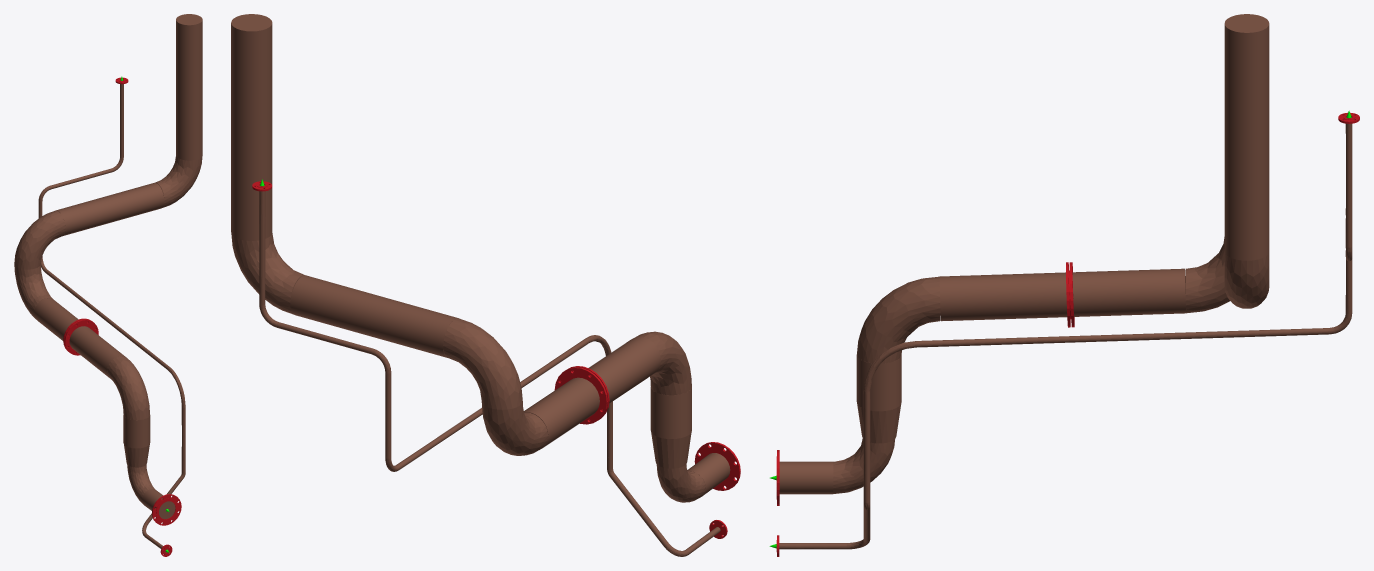
The model's file is Phase44d.fbx.
The picture shows the model from 3 angles, left to right: view 1: azimuth 30°, elevation 25°; view 2: azimuth 150°, elevation 25°; view 3: azimuth 270°, elevation 25°; orthographic projection. The views are drawn at different scales.
Parts seen in each view (by area): view 1: Типы трубопроводов:CPS_Бесшовная труба из нс:1278402 (×2), Сталь нержавеющая (×2), 48.53.02.00.014 Трубопровод:48.53.02.00.014 Трубопровод:1453, СтальСварка_Отвод:Исполнение 2 — 108:1391713, Типы трубопроводов:CPS_Бесшовная труба из нс:1354505, Отвод:Исполнение 2 — 108:1287297, Типы трубопроводов:CPS_Бесшовная труба из нс:1278318, Типы трубопроводов:CPS_Бесшовная труба из нс:1353680, СтальСварка_Отвод:Исполнение 2 — 108:1391896, Фланец:Фланец:1452189, Типы трубопроводов:CPS_Бесшовная труба из нс:1354553, Переход исп. 1:Переход исп. 1:1374321 (+2 smaller); view 2: Типы трубопроводов:CPS_Бесшовная труба из нс:1278402 (×2), Сталь нержавеющая (×2), 48.53.02.00.014 Трубопровод:48.53.02.00.014 Трубопровод:1453, Отвод:Исполнение 2 — 108:1287297, Типы трубопроводов:CPS_Бесшовная труба из нс:1278318, Типы трубопроводов:CPS_Бесшовная труба из нс:1354505, СтальСварка_Отвод:Исполнение 2 — 108:1391713, Типы трубопроводов:CPS_Бесшовная труба из нс:1353680, СтальСварка_Отвод:Исполнение 2 — 108:1391896, 48.53.02.00.001 Колено:48.53.02.00.001 Колено:1449438, Переход исп. 1:Переход исп. 1:1374321, Типы трубопроводов:CPS_Бесшовная труба из нс:1354553 (+2 smaller); view 3: Типы трубопроводов:CPS_Бесшовная труба из нс:1278402, 48.53.02.00.014 Трубопровод:48.53.02.00.014 Трубопровод:1453, Типы трубопроводов:CPS_Бесшовная труба из нс:1354505, Типы трубопроводов:CPS_Бесшовная труба из нс:1278318, СтальСварка_Отвод:Исполнение 2 — 108:1391713, Отвод:Исполнение 2 — 108:1287297, Сталь нержавеющая, Типы трубопроводов:CPS_Бесшовная труба из нс:1353680, Типы трубопроводов:CPS_Бесшовная труба из нс:1354553, СтальСварка_Отвод:Исполнение 2 — 108:1391896, Переход исп. 1:Переход исп. 1:1374321, 48.53.02.00.001 Колено:48.53.02.00.001 Колено:1449438.
Part boxes in pixels (box(x1,y1,x2,y2)): Типы трубопроводов:CPS_Бесшовная труба из нс:1278402 (×2): box(56, 14, 202, 236); Сталь нержавеющая (×2): box(14, 210, 65, 318); 48.53.02.00.014 Трубопровод:48.53.02.00.014 Трубопровод:1453: box(38, 84, 185, 465); СтальСварка_Отвод:Исполнение 2 — 108:1391713: box(107, 356, 149, 419); Типы трубопроводов:CPS_Бесшовная труба из нс:1354505: box(69, 326, 126, 377); Отвод:Исполнение 2 — 108:1287297: box(155, 156, 202, 207); Типы трубопроводов:CPS_Бесшовная труба из нс:1278318: box(34, 298, 78, 340); Типы трубопроводов:CPS_Бесшовная труба из нс:1353680: box(123, 415, 150, 448); СтальСварка_Отвод:Исполнение 2 — 108:1391896: box(127, 465, 155, 503); Фланец:Фланец:1452189: box(152, 494, 181, 525); Типы трубопроводов:CPS_Бесшовная труба из нс:1354553: box(142, 489, 175, 519); Переход исп. 1:Переход исп. 1:1374321: box(124, 444, 149, 467); Типы трубопроводов:CPS_Бесшовная труба из нс:1278402 (×2): box(231, 14, 458, 357); Сталь нержавеющая (×2): box(443, 318, 548, 455); 48.53.02.00.014 Трубопровод:48.53.02.00.014 Трубопровод:1453: box(259, 185, 612, 471); Отвод:Исполнение 2 — 108:1287297: box(231, 233, 304, 314); Типы трубопроводов:CPS_Бесшовная труба из нс:1278318: box(524, 377, 599, 447); Типы трубопроводов:CPS_Бесшовная труба из нс:1354505: box(588, 336, 660, 403); СтальСварка_Отвод:Исполнение 2 — 108:1391713: box(636, 331, 691, 395); Типы трубопроводов:CPS_Бесшовная труба из нс:1353680: box(650, 386, 691, 438); СтальСварка_Отвод:Исполнение 2 — 108:1391896: box(656, 464, 705, 502); 48.53.02.00.001 Колено:48.53.02.00.001 Колено:1449438: box(607, 456, 720, 556); Переход исп. 1:Переход исп. 1:1374321: box(651, 432, 691, 468); Типы трубопроводов:CPS_Бесшовная труба из нс:1354553: box(687, 453, 730, 496); Типы трубопроводов:CPS_Бесшовная труба из нс:1278402: box(1224, 14, 1269, 260); 48.53.02.00.014 Трубопровод:48.53.02.00.014 Трубопровод:1453: box(863, 117, 1352, 488); Типы трубопроводов:CPS_Бесшовная труба из нс:1354505: box(939, 272, 1067, 321); Типы трубопроводов:CPS_Бесшовная труба из нс:1278318: box(1072, 268, 1186, 316); СтальСварка_Отвод:Исполнение 2 — 108:1391713: box(857, 276, 940, 363); Отвод:Исполнение 2 — 108:1287297: box(1224, 252, 1269, 308); Сталь нержавеющая: box(1185, 237, 1229, 313); Типы трубопроводов:CPS_Бесшовная труба из нс:1353680: box(856, 354, 901, 411); Типы трубопроводов:CPS_Бесшовная труба из нс:1354553: box(779, 461, 833, 494); СтальСварка_Отвод:Исполнение 2 — 108:1391896: box(833, 438, 894, 493); Переход исп. 1:Переход исп. 1:1374321: box(857, 403, 901, 443); 48.53.02.00.001 Колено:48.53.02.00.001 Колено:1449438: box(779, 488, 870, 549).
Size of the model in its own units: 1801 by 2894 by 3597.
